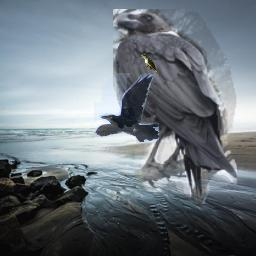Crow: (113, 9, 237, 204), (94, 73, 159, 142)
Cuckoo: (141, 54, 161, 77)
